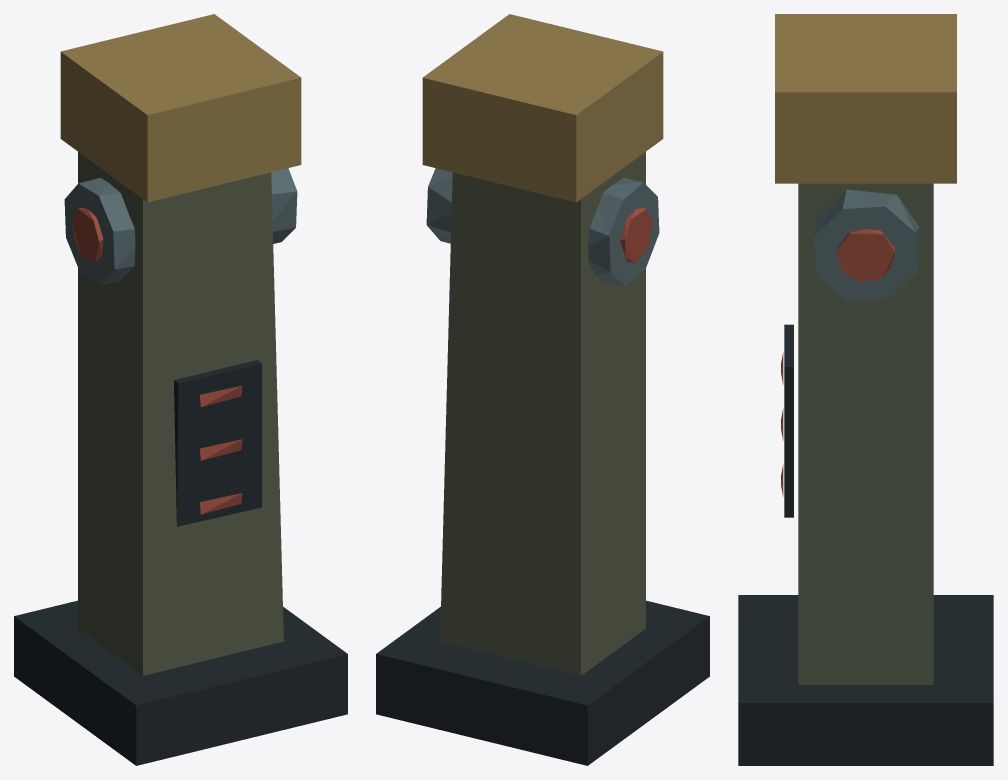
Rendered from LASER_FENCE_PYLON.shadow.glb.
3 renders of one model, left to right at view 1: azimuth 30°, elevation 25°; view 2: azimuth 150°, elevation 25°; view 3: azimuth 270°, elevation 25°, orthographic. The views are drawn at different scales.
Parts seen in each view (by area): view 1: Body_Mesh; view 2: Body_Mesh; view 3: Body_Mesh.
Boxes of the visible parts, x1=… form: Body_Mesh: x1=14, y1=14, x2=347, y2=765; Body_Mesh: x1=376, y1=14, x2=709, y2=765; Body_Mesh: x1=738, y1=14, x2=993, y2=765.
Size of the model in its own units: 0.66 by 1.88 by 0.66.
